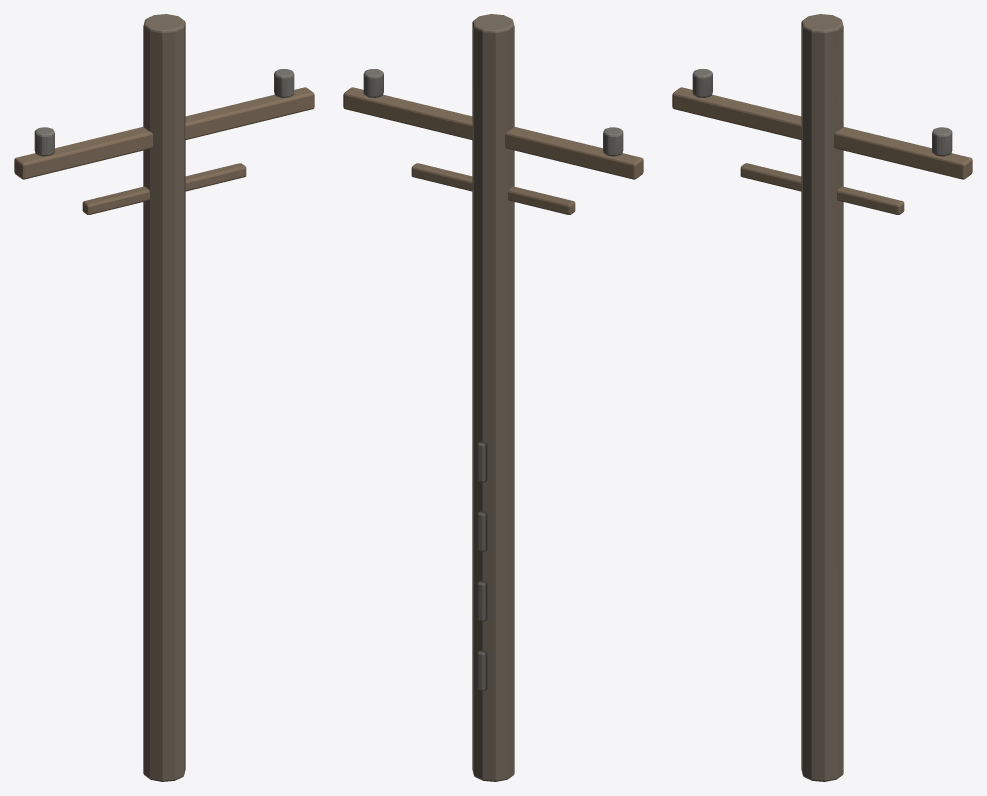
The model's file is powerpole.glb.
The picture shows the model from 3 angles, left to right: view 1: azimuth 30°, elevation 25°; view 2: azimuth 150°, elevation 25°; view 3: azimuth 330°, elevation 25°; orthographic projection.
Parts seen in each view (by area): view 1: pole; view 2: pole; view 3: pole.
Boxes of the visible parts, left/top/right/bottom form: pole: left=14, top=14, right=314, bottom=781; pole: left=343, top=14, right=643, bottom=781; pole: left=672, top=14, right=972, bottom=781.
Size of the model in its own units: 2.2 by 5.4 by 0.31.
